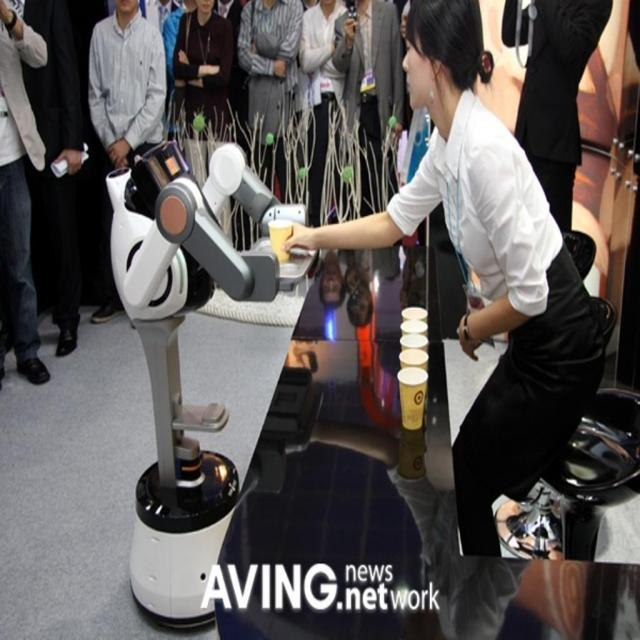nomask: (401, 5, 439, 109)
